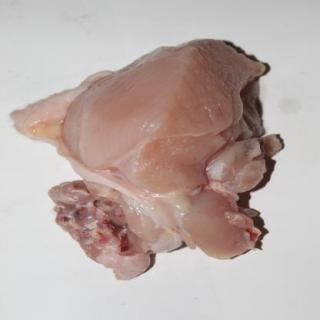Ayam: (10, 38, 284, 282)
